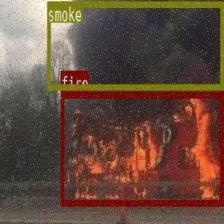smoke: (47, 0, 222, 88)
